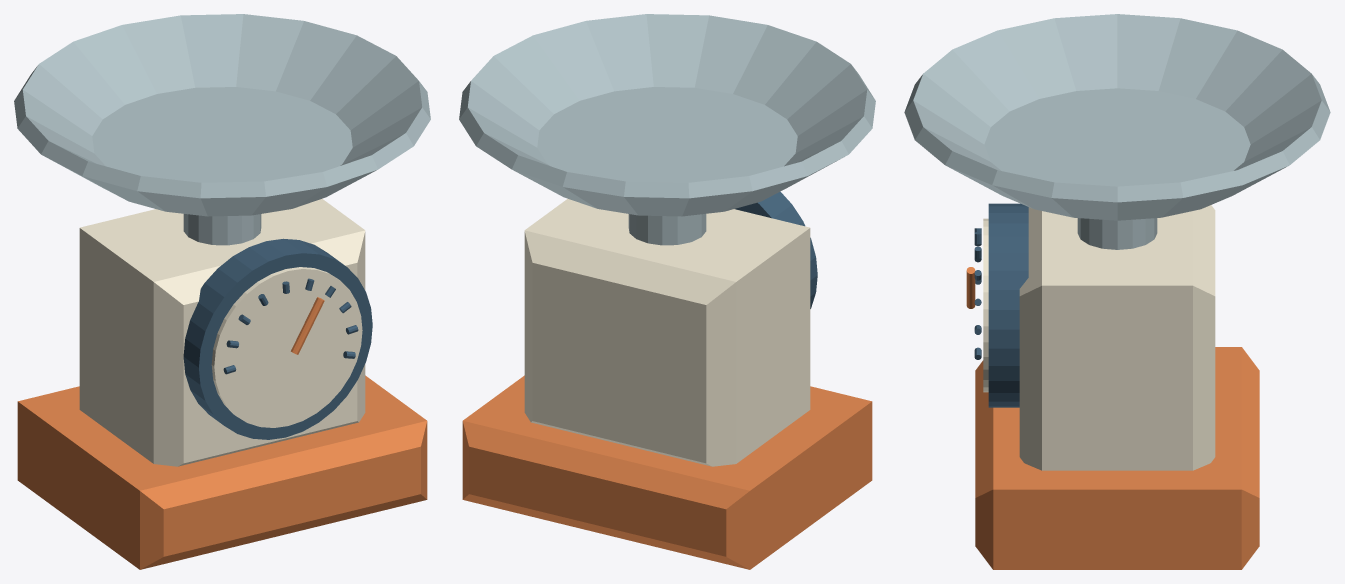
Rendered from harbor-and-tackle-weighing-scale-cdfe9c8a__19595.glb.
3 views of the same model, side by side, from view 1: azimuth 30°, elevation 25°; view 2: azimuth 150°, elevation 25°; view 3: azimuth 270°, elevation 25° (orthographic).
Parts seen in each view (by area): view 1: metal, ivory, orange, navy; view 2: metal, ivory, orange, navy; view 3: metal, ivory, orange, navy.
Part boxes in pixels (x1=…): metal: x1=14, y1=14, x2=430, y2=245; ivory: x1=79, y1=199, x2=365, y2=466; orange: x1=17, y1=297, x2=427, y2=569; navy: x1=183, y1=238, x2=372, y2=439; metal: x1=459, y1=14, x2=875, y2=245; ivory: x1=524, y1=199, x2=810, y2=466; orange: x1=462, y1=375, x2=872, y2=569; navy: x1=735, y1=191, x2=817, y2=308; metal: x1=904, y1=14, x2=1330, y2=249; ivory: x1=983, y1=205, x2=1215, y2=470; orange: x1=966, y1=267, x2=1259, y2=569; navy: x1=974, y1=203, x2=1028, y2=407.
Size of the model in its own units: 0.48 by 0.495 by 0.48.
